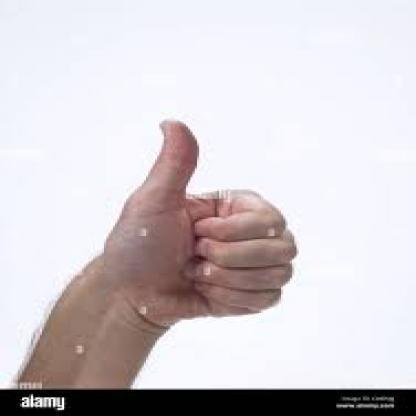thumb_up: (96, 116, 302, 324)
